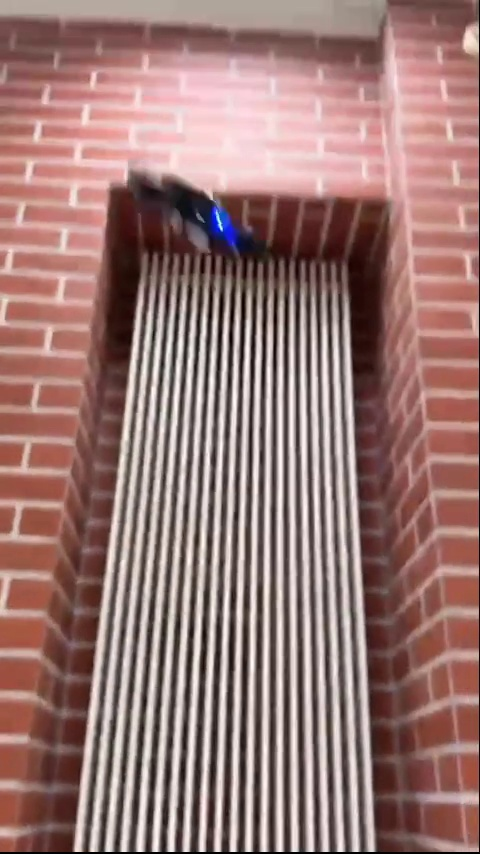drone: (125, 163, 286, 269)
